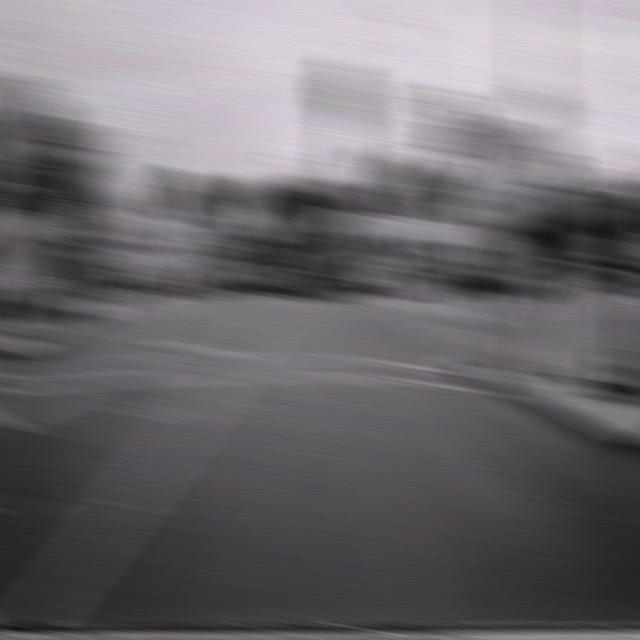pedestrianCrossing: (510, 70, 566, 138)
